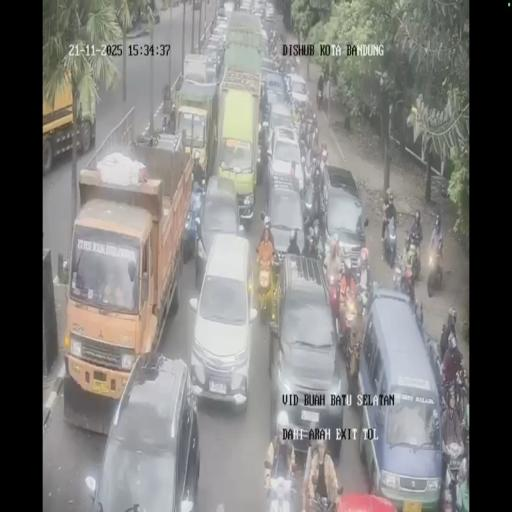3: (42, 65, 96, 175), (172, 61, 218, 183), (222, 8, 266, 79)
car: (357, 287, 443, 506), (89, 353, 199, 508), (266, 256, 346, 452), (316, 166, 366, 274), (196, 172, 242, 286), (263, 183, 306, 269), (265, 100, 299, 152), (285, 72, 309, 116), (203, 41, 225, 78), (260, 56, 279, 76), (259, 26, 269, 58), (215, 5, 229, 23), (252, 0, 266, 17), (239, 0, 253, 13), (265, 2, 275, 20)
truck: (264, 458, 300, 511), (441, 445, 466, 510), (301, 170, 325, 236), (426, 239, 444, 296), (403, 236, 422, 286), (326, 270, 342, 324), (382, 214, 397, 268), (356, 276, 372, 318), (278, 54, 300, 78), (266, 29, 280, 62), (392, 257, 405, 292), (302, 102, 315, 128), (316, 83, 323, 110)
